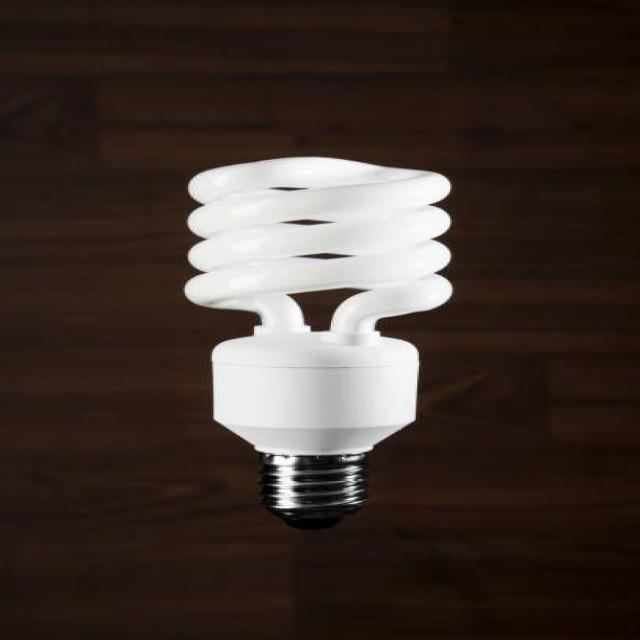electronic: (180, 154, 455, 528)
